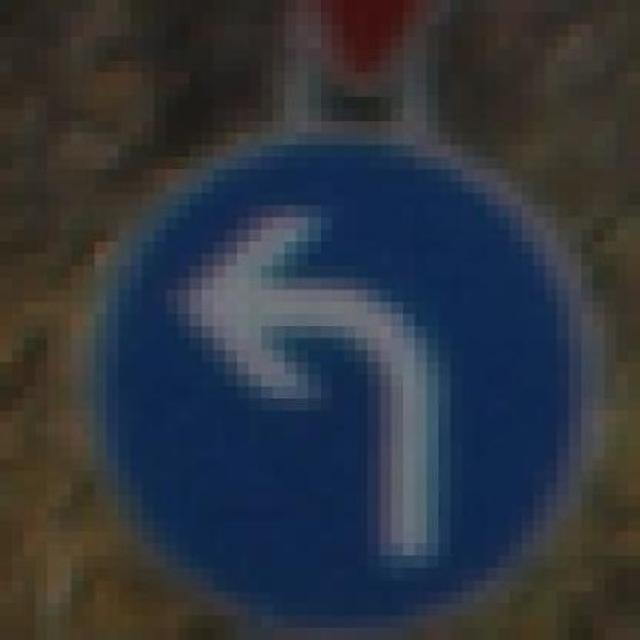Turn left ahead: (70, 133, 604, 616)
